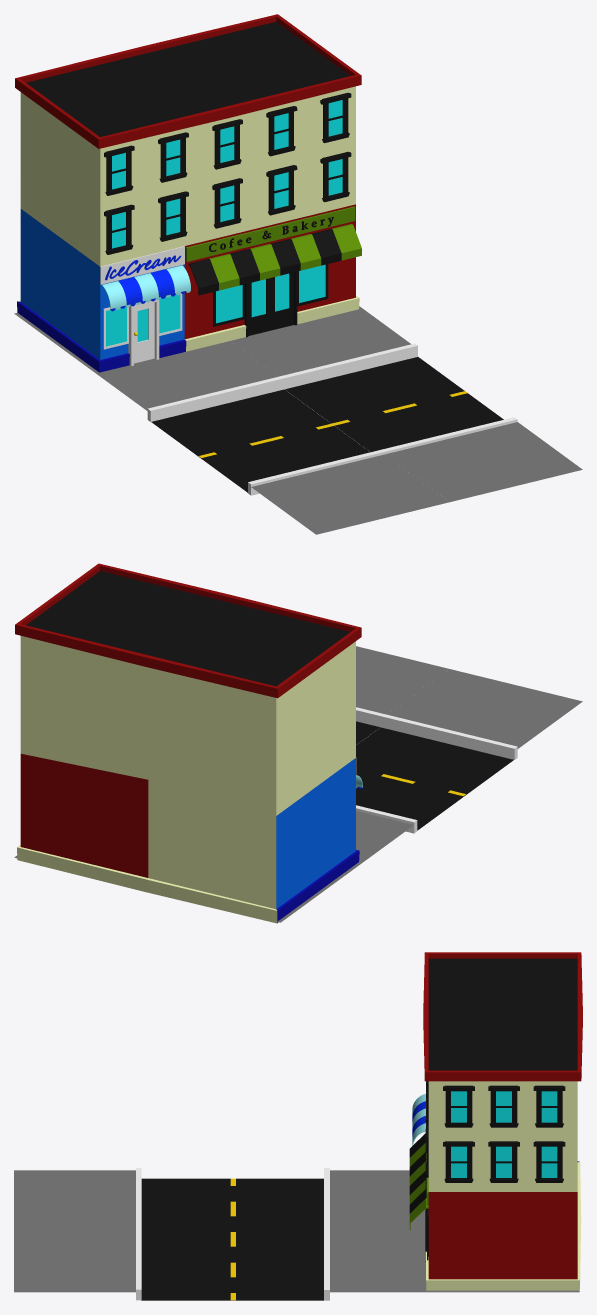
The model's file is Street08.FBX.
3 views of the same model, one above another, from view 1: azimuth 30°, elevation 25°; view 2: azimuth 150°, elevation 25°; view 3: azimuth 270°, elevation 25° (orthographic). The views are drawn at different scales.
Visible parts, largest first — view 1: Street07, Box117, Plane073, Plane077, Cylinder035, Cylinder036, Cylinder034, Cylinder037, Box118, PivotDoor006, PivotDoor007, Cylinder038 (+11 smaller); view 2: Box117, Street07, Plane073, Cylinder035, Cylinder036, Cylinder034; view 3: Street07, Plane077, Plane073, Box117, Cylinder035, Cylinder036, Cylinder037, Cylinder034, AwningWindow023, AwningWindow024, AwningWindow022, AwningWindow019 (+3 smaller).
Boxes of the visible parts, x1,y1,x2,y2 form: Street07: (15,14,517,495); Box117: (18,86,355,301); Plane073: (151,389,369,492); Plane077: (285,357,503,452); Cylinder035: (251,454,448,534); Cylinder036: (384,422,582,502); Cylinder034: (14,312,277,410); Cylinder037: (230,306,410,376); Box118: (209,234,321,290); PivotDoor006: (244,271,297,337); PivotDoor007: (128,299,159,365); Cylinder038: (118,269,174,304); Box117: (20,636,355,923); Street07: (15,563,517,922); Plane073: (356,727,513,830); Cylinder035: (387,669,582,748); Cylinder036: (356,646,448,714); Cylinder034: (277,811,413,922); Street07: (136,952,582,1300); Plane077: (141,1239,323,1300); Plane073: (141,1178,323,1239); Box117: (428,1081,581,1220); Cylinder035: (14,1170,135,1231); Cylinder036: (14,1231,135,1292); Cylinder037: (330,1231,579,1292); Cylinder034: (330,1170,425,1231); AwningWindow023: (488,1085,519,1127); AwningWindow024: (533,1085,565,1127); AwningWindow022: (443,1085,474,1127); AwningWindow019: (533,1141,565,1182).
Size of the model in its own units: 63.94 by 55.4 by 126.
